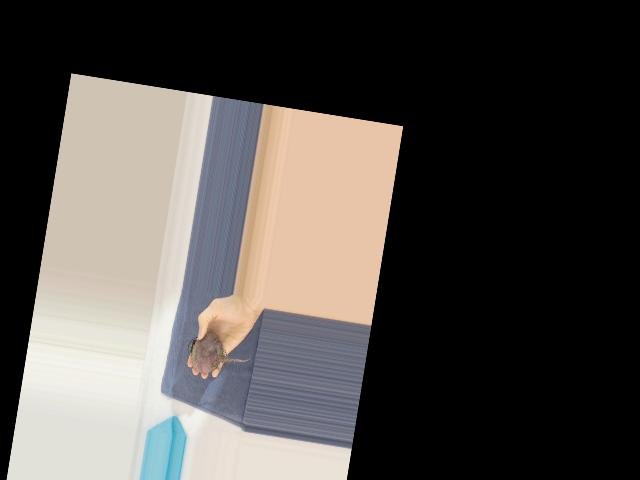beet: (184, 330, 254, 380)
